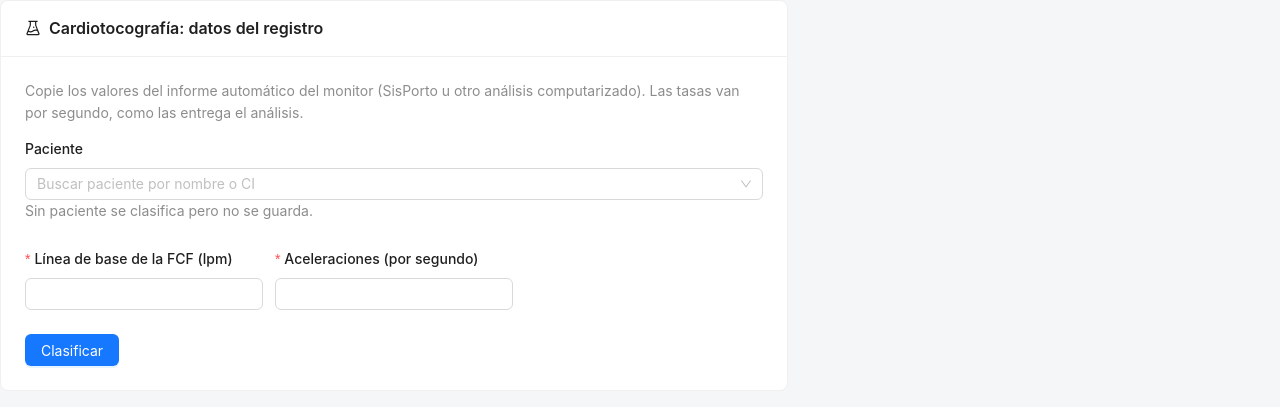
Scenario: Cardiotocografía guardada por paciente › sin paciente clasifica y avisa que no se guarda
The image size is (1280, 407).
Expected: the text "Sin paciente se clasifica pero no se guarda." is shown, [25, 202, 313, 219]
In the number field labelled "Línea de base de la FCF (lpm)": (144, 294) [26, 279, 262, 309], type "132"
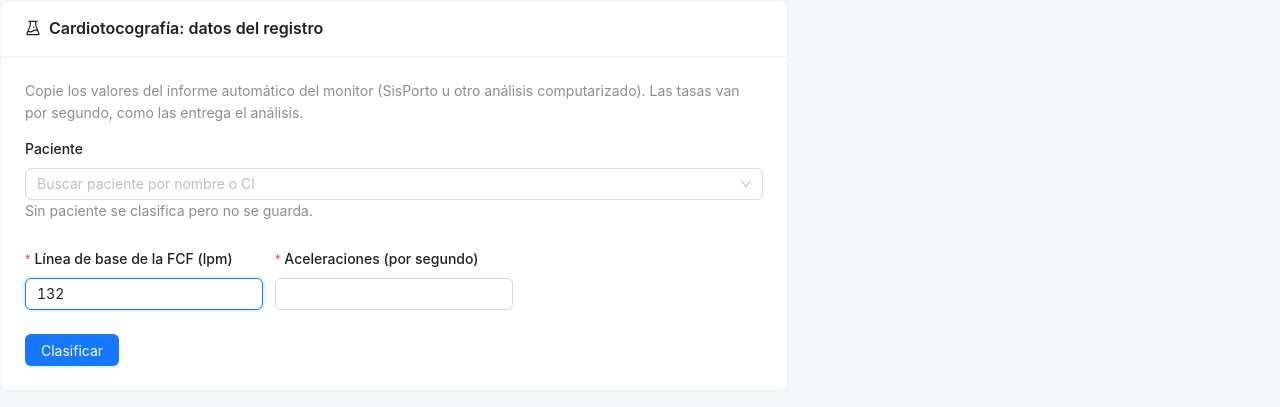
In the number field labelled "Aceleraciones (por segundo)": (394, 294) [276, 279, 512, 309], type "0.006"
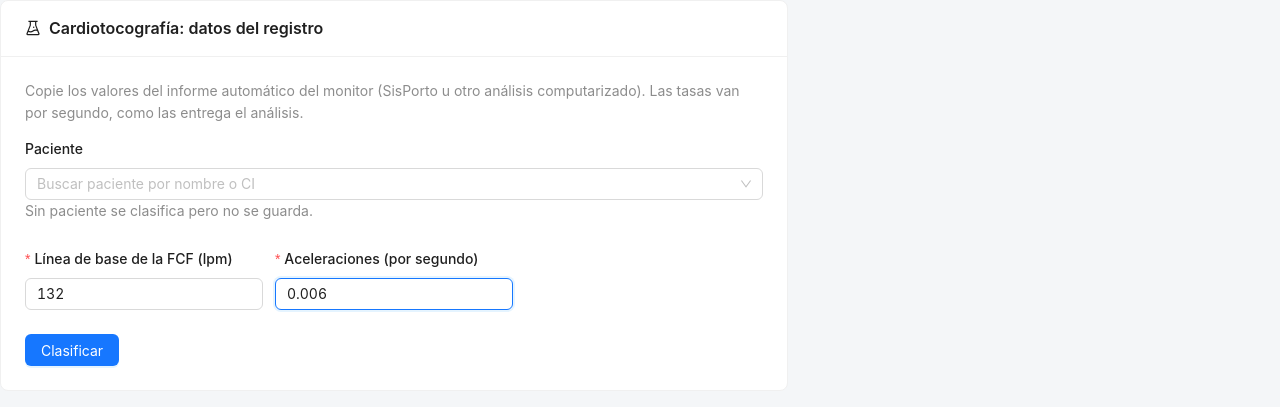
Click the button "Clasificar": (72, 350) [25, 334, 119, 366]
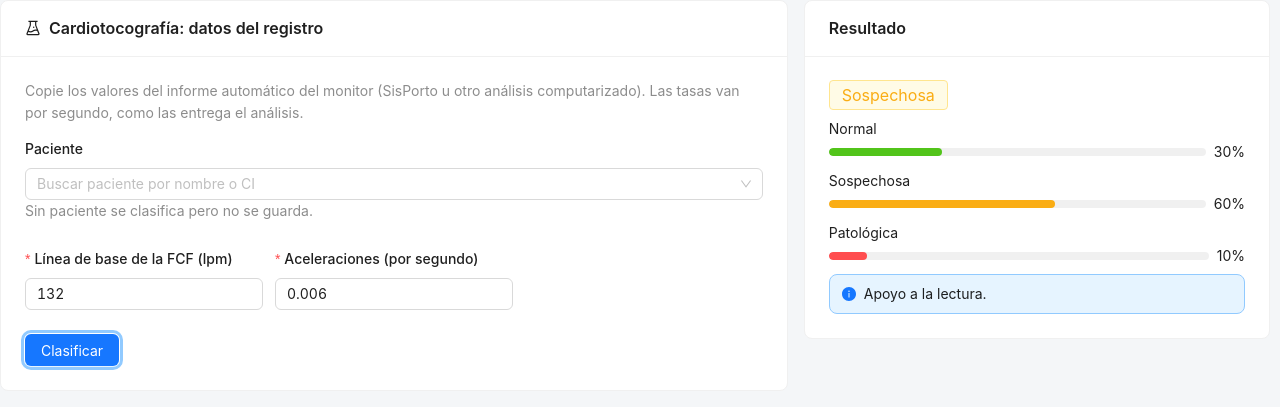
Now the 1st text "Sospechosa" is shown, box [829, 80, 948, 110]
